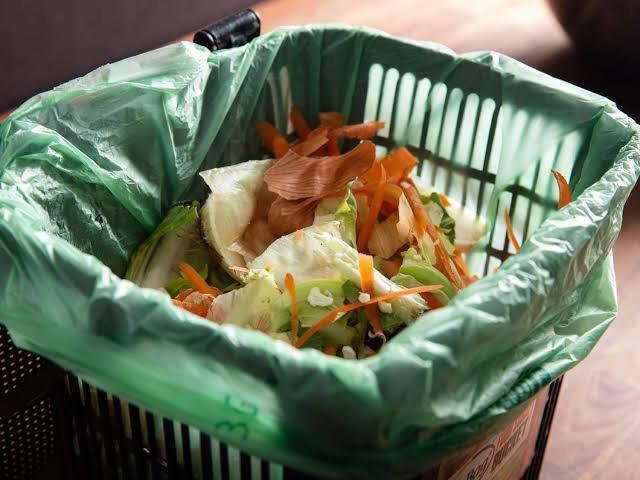organic: (246, 223, 444, 350), (119, 198, 217, 323), (261, 139, 377, 236), (500, 205, 522, 268)
